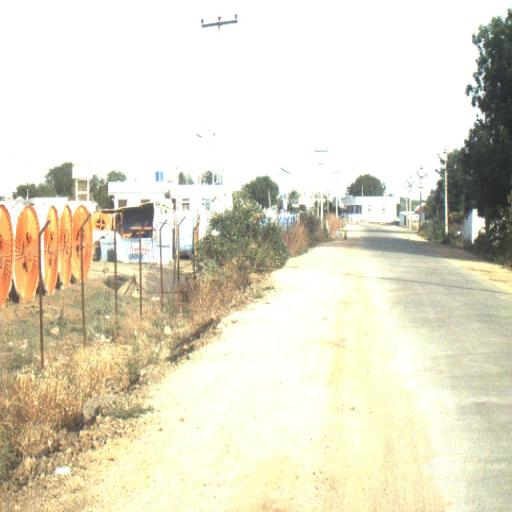street_light_0: (435, 169, 448, 190)
